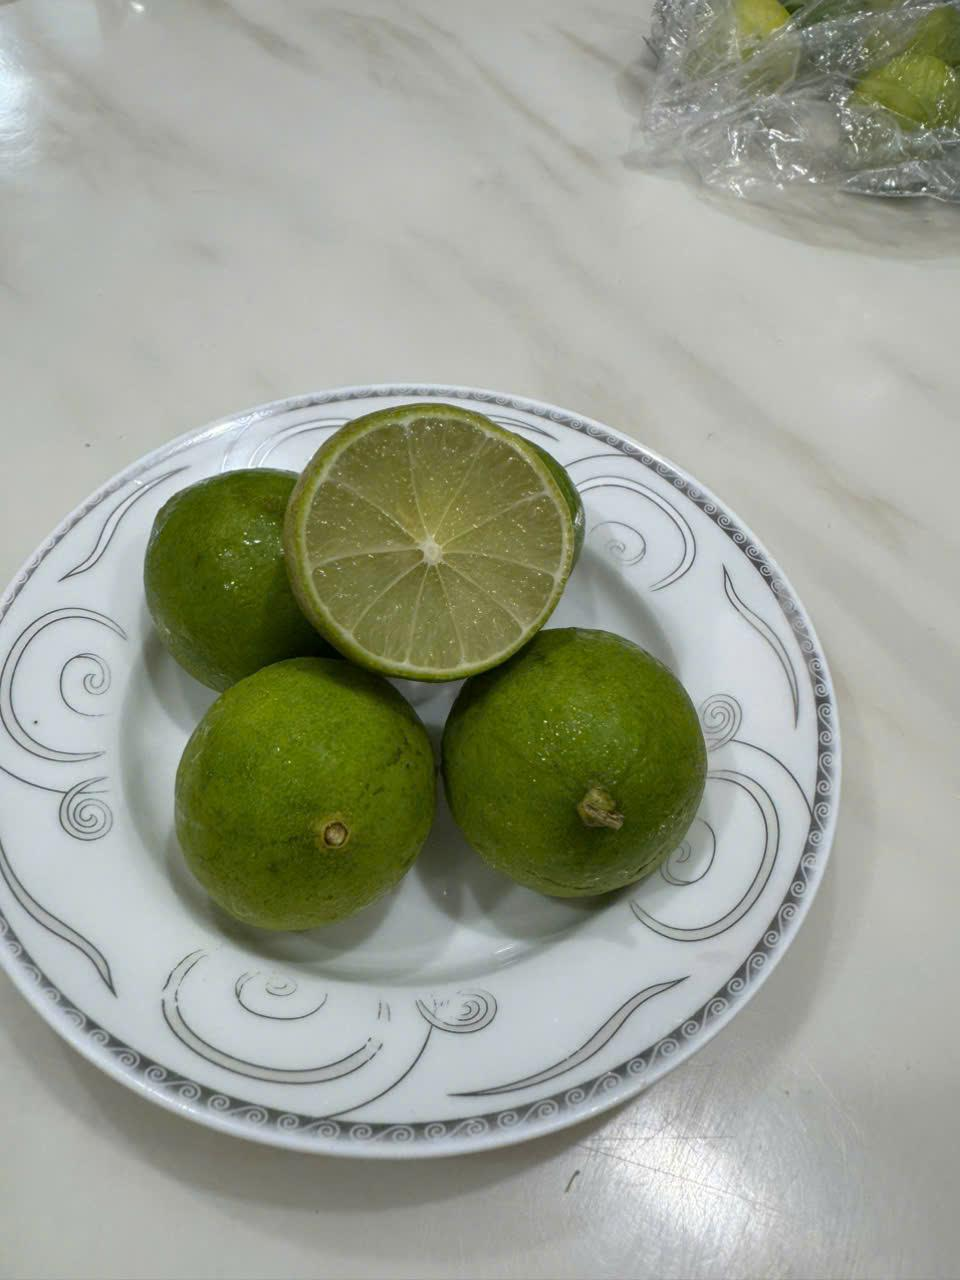lime: (266, 388, 568, 659), (440, 622, 726, 901), (168, 654, 436, 944), (140, 460, 287, 678)
